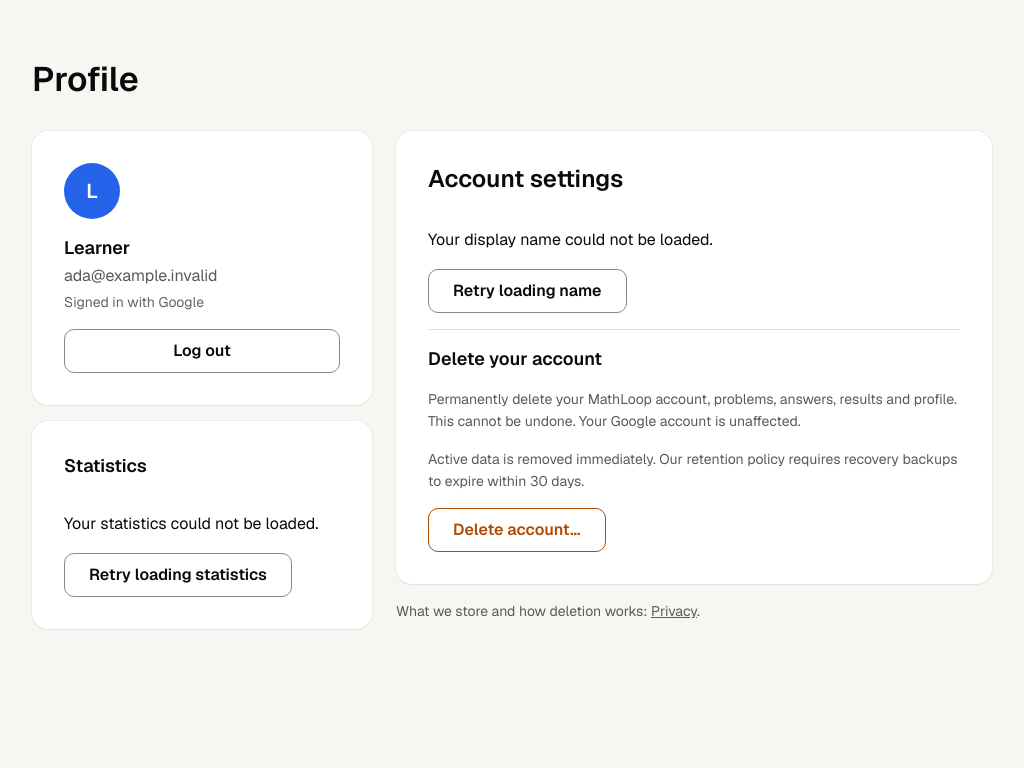
it: shows an error rather than invented zero profile counts, then loads real totals on retry
The image size is (1024, 768).
Expected: the message "Your statistics could not be loaded. Retry loading statistics" is shown, [64,495,340,597]
Click the button "Retry loading statistics" at [178, 575], box [64,553,292,597]
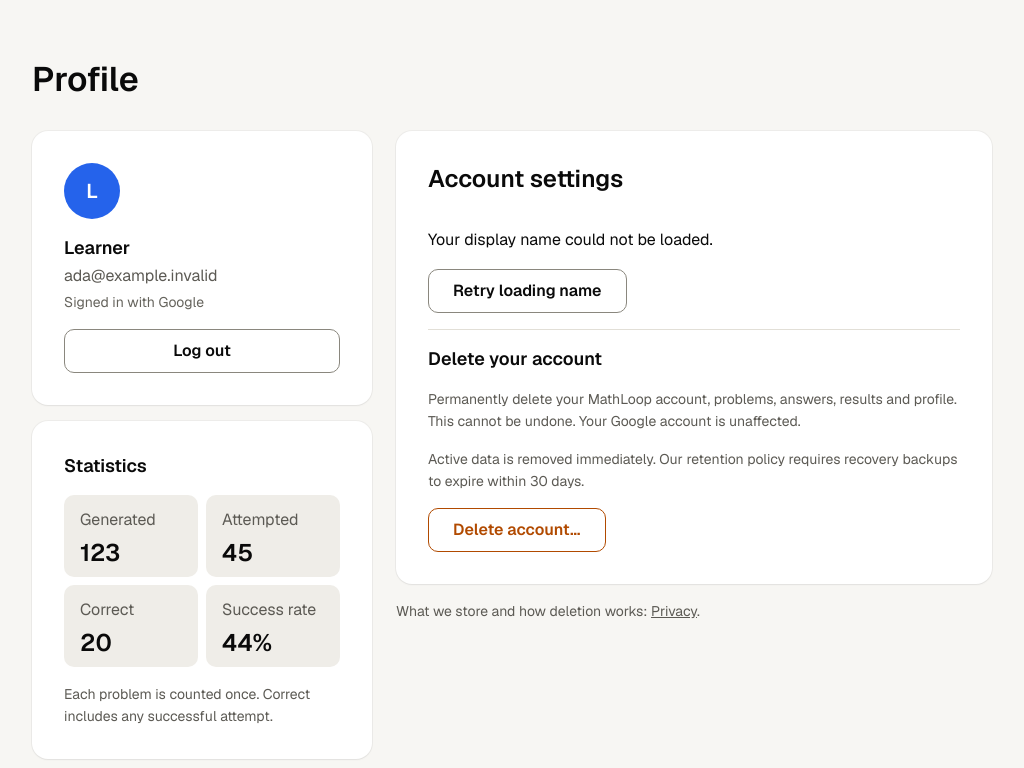
Now the text "123" is shown, box [80,541,120,565]
Now the text "45" is shown, box [222,541,253,565]
Now the text "Your statistics could not be loaded." is gone
